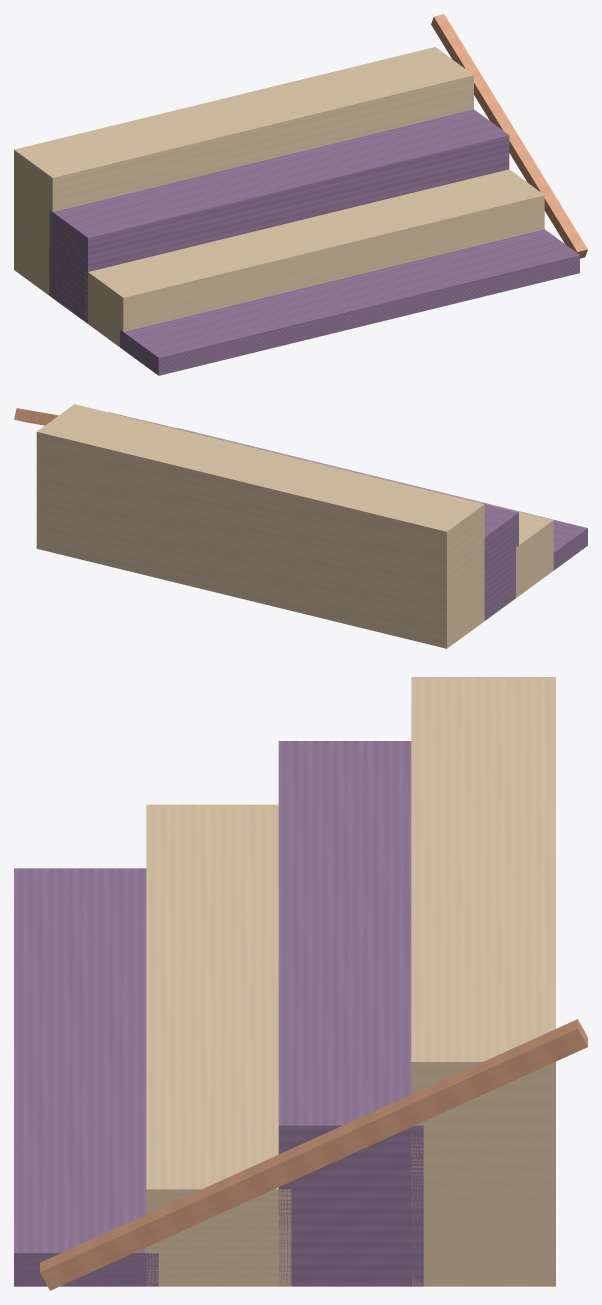
Rendered from atlas100-s081-a10.lod1.glb.
3 renders of one model, top to bottom at view 1: azimuth 30°, elevation 25°; view 2: azimuth 150°, elevation 25°; view 3: azimuth 270°, elevation 25°, orthographic. The views are drawn at different scales.
Visible parts, largest first — view 1: atlas100-s081-a10:part-003, atlas100-s081-a10:part-002, atlas100-s081-a10:part-001, atlas100-s081-a10:part-000, atlas100-s081-a10:part-005; view 2: atlas100-s081-a10:part-003, atlas100-s081-a10:part-002, atlas100-s081-a10:part-001, atlas100-s081-a10:part-000, atlas100-s081-a10:part-005; view 3: atlas100-s081-a10:part-003, atlas100-s081-a10:part-002, atlas100-s081-a10:part-001, atlas100-s081-a10:part-000, atlas100-s081-a10:part-005.
Part boxes in pixels (bbox=[...]): atlas100-s081-a10:part-003: bbox=[14, 47, 473, 295]; atlas100-s081-a10:part-002: bbox=[49, 109, 509, 323]; atlas100-s081-a10:part-001: bbox=[84, 169, 544, 346]; atlas100-s081-a10:part-000: bbox=[120, 229, 579, 375]; atlas100-s081-a10:part-005: bbox=[431, 14, 587, 258]; atlas100-s081-a10:part-003: bbox=[36, 404, 484, 648]; atlas100-s081-a10:part-002: bbox=[108, 412, 518, 620]; atlas100-s081-a10:part-001: bbox=[143, 420, 553, 597]; atlas100-s081-a10:part-000: bbox=[178, 428, 587, 570]; atlas100-s081-a10:part-005: bbox=[14, 408, 58, 425]; atlas100-s081-a10:part-003: bbox=[411, 677, 555, 1286]; atlas100-s081-a10:part-002: bbox=[278, 741, 423, 1286]; atlas100-s081-a10:part-001: bbox=[146, 804, 291, 1286]; atlas100-s081-a10:part-000: bbox=[14, 868, 158, 1286]; atlas100-s081-a10:part-005: bbox=[40, 1019, 587, 1290].
Bounding box in the file's own units: 2.28 × 0.7246 × 1.39.
3 materials, 3 textured.
